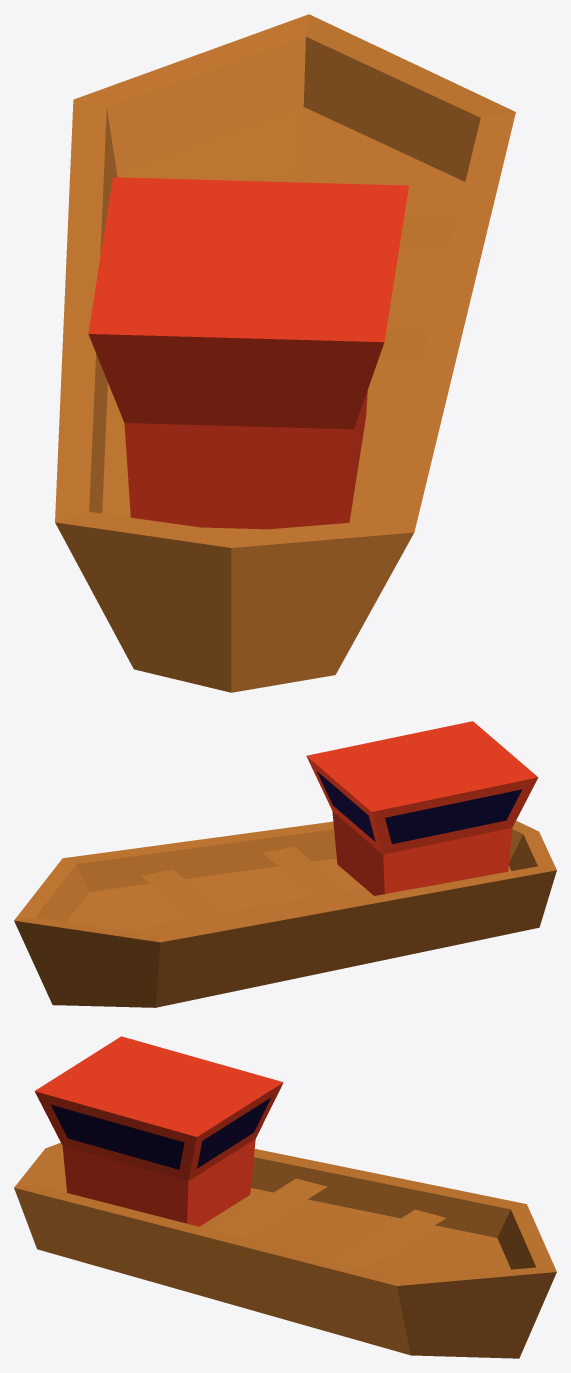
File: boat2.obj
3 renders of one model, top to bottom at view 1: azimuth 30°, elevation 25°; view 2: azimuth 150°, elevation 25°; view 3: azimuth 270°, elevation 25°, orthographic. The views are drawn at different scales.
Visible parts, largest first — view 1: Cube.020, Cube.021; view 2: Cube.020, Cube.021, window.002; view 3: Cube.020, Cube.021, window.002.
Boxes of the visible parts, bbox=[...] form: Cube.020: bbox=[55, 14, 515, 692]; Cube.021: bbox=[88, 177, 408, 529]; Cube.020: bbox=[14, 820, 556, 1007]; Cube.021: bbox=[306, 721, 538, 895]; window.002: bbox=[317, 771, 522, 844]; Cube.020: bbox=[14, 1143, 556, 1358]; Cube.021: bbox=[34, 1036, 283, 1226]; window.002: bbox=[51, 1097, 271, 1169].
Size of the model in its own units: 0.2941 by 0.1253 by 0.3626.
Materials: 3 (3 with a texture image).
